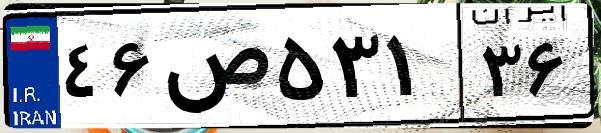1: (385, 28, 445, 110)
3: (330, 28, 385, 110), (475, 38, 525, 113)
4: (57, 26, 110, 100)
5: (270, 28, 330, 110)
6: (525, 38, 570, 115), (110, 28, 158, 98)
ص: (158, 20, 270, 120)
